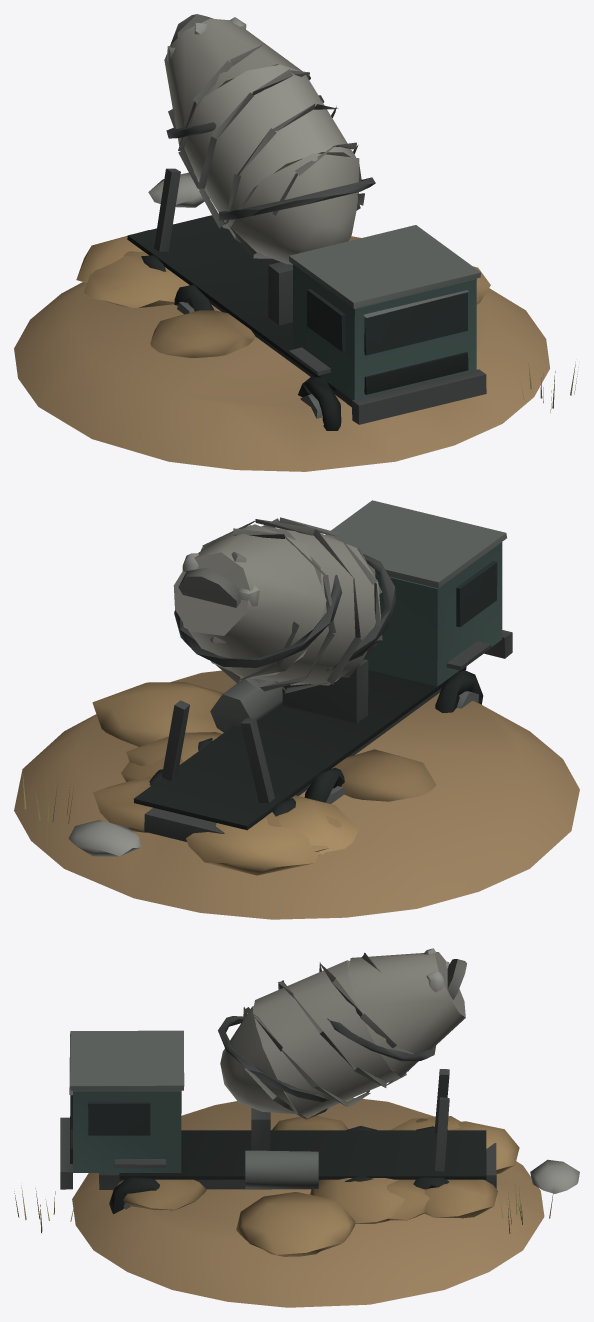
Rendered from mixer_wreck_c_lod2.glb.
3 renders of one model, top to bottom at view 1: azimuth 30°, elevation 25°; view 2: azimuth 150°, elevation 25°; view 3: azimuth 270°, elevation 25°, orthographic. The views are drawn at different scales.
Parts seen in each view (by area): view 1: Surface.001; view 2: Surface.001; view 3: Surface.001.
Boxes of the visible parts, x1,y1,x2,y2 form: Surface.001: (14, 14, 578, 471); Surface.001: (14, 500, 579, 919); Surface.001: (14, 948, 579, 1307).
Size of the model in its own units: 9.9 by 5.86 by 11.86.
